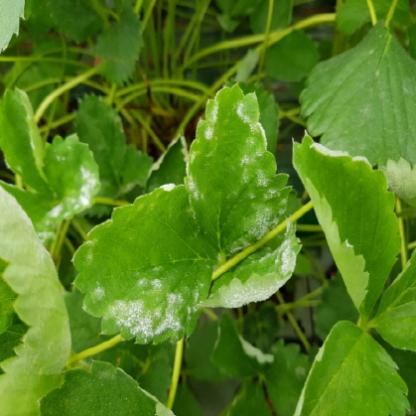Strawberry_Powdery_Mildew_Leaf: (71, 181, 216, 344), (291, 130, 404, 320), (182, 81, 294, 255), (199, 218, 303, 309), (39, 132, 103, 236)
